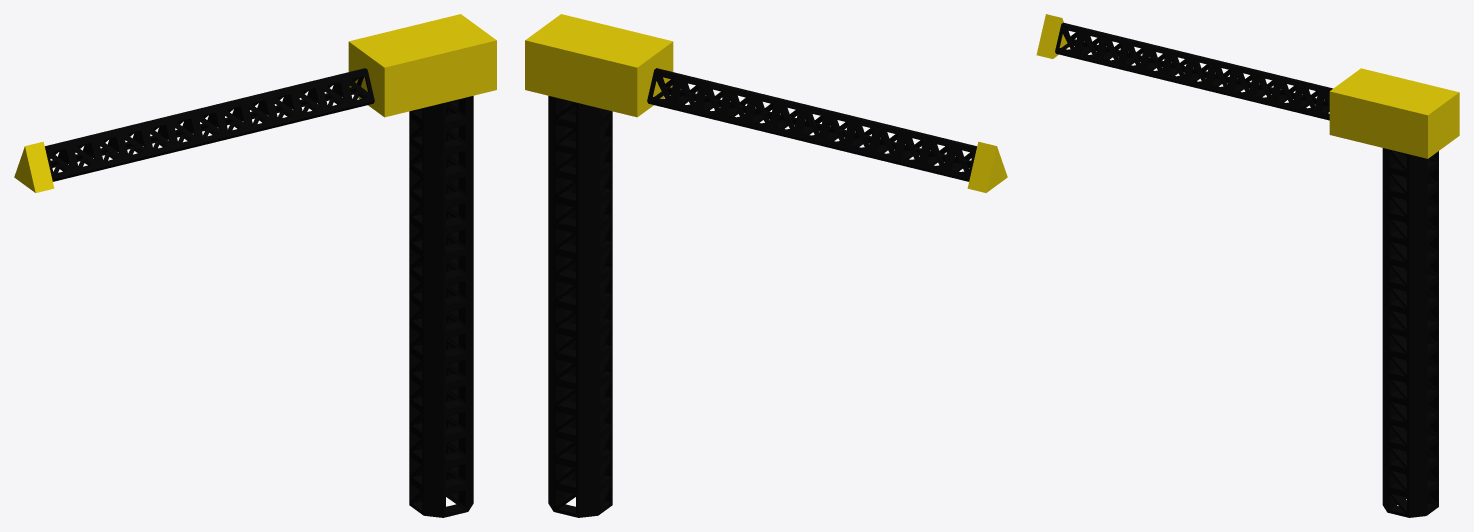
Rendered from Crane.fbx.
3 views of the same model, side by side, from view 1: azimuth 30°, elevation 25°; view 2: azimuth 150°, elevation 25°; view 3: azimuth 330°, elevation 25° (orthographic). The views are drawn at different scales.
Visible parts, largest first — view 1: Base, Triangle Crane, Cube, Plane; view 2: Base, Triangle Crane, Cube, Plane; view 3: Base, Triangle Crane, Cube, Plane.
Boxes of the visible parts, box(x1,y1,x2,y2) form: Base: box(409, 96, 473, 517); Triangle Crane: box(45, 68, 374, 181); Cube: box(348, 14, 496, 117); Plane: box(14, 141, 54, 192); Base: box(548, 96, 612, 517); Triangle Crane: box(647, 68, 976, 181); Cube: box(525, 14, 673, 117); Plane: box(967, 141, 1007, 192); Base: box(1382, 148, 1438, 517); Triangle Crane: box(1055, 22, 1332, 120); Cube: box(1329, 68, 1459, 158); Plane: box(1036, 14, 1068, 58).
Size of the model in its own units: 3642 by 3589 by 500.
